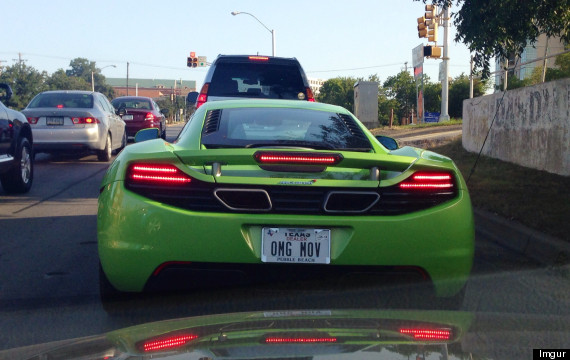license plate: (259, 223, 334, 265)
